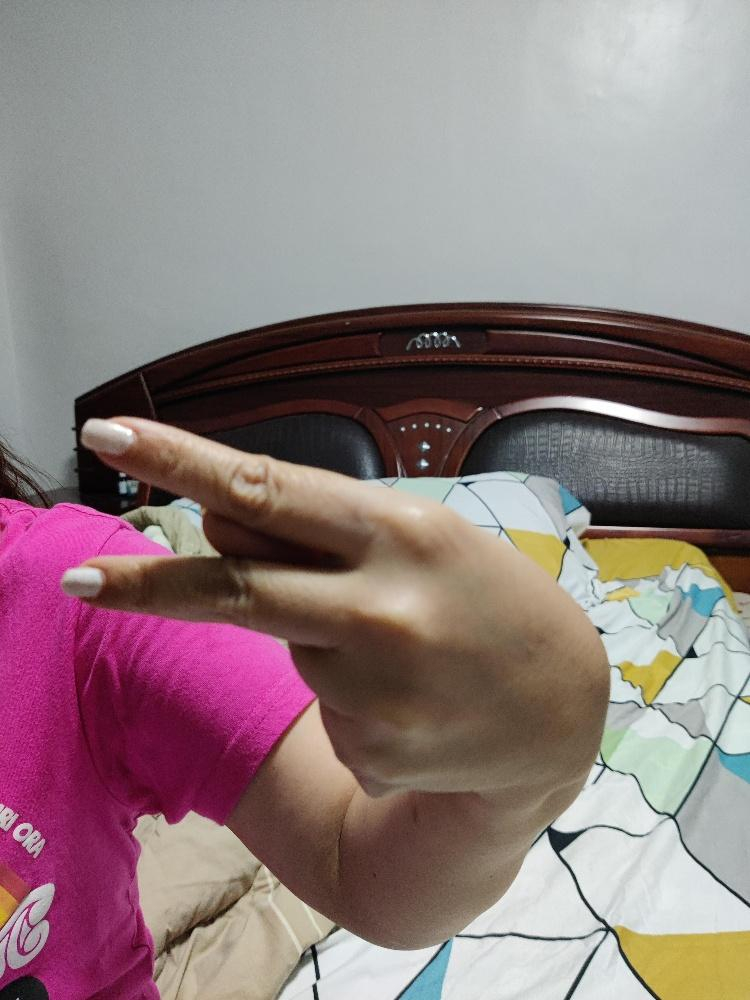k: (59, 413, 611, 798)
